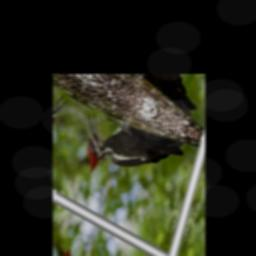Woodpecker: (73, 93, 186, 216)
